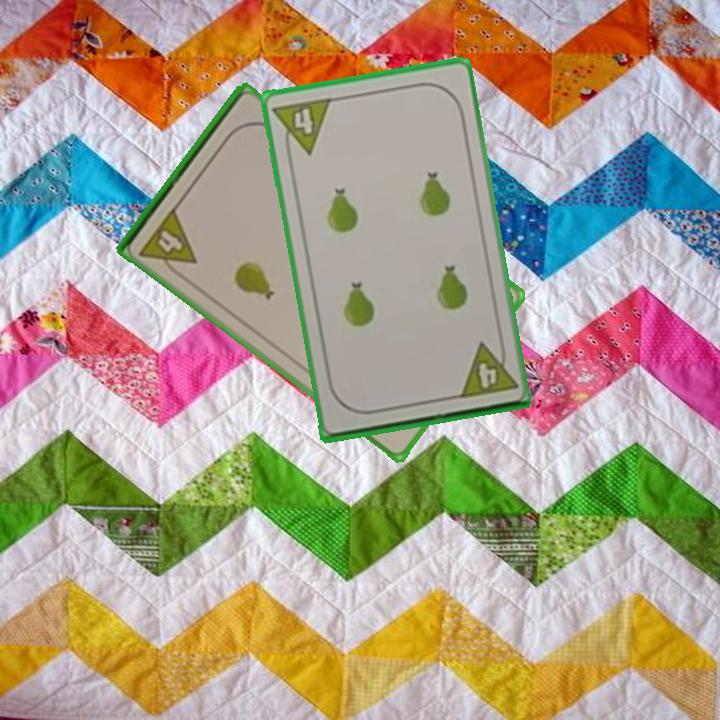4p: (136, 203, 200, 281), (269, 94, 334, 161), (454, 337, 519, 401)
